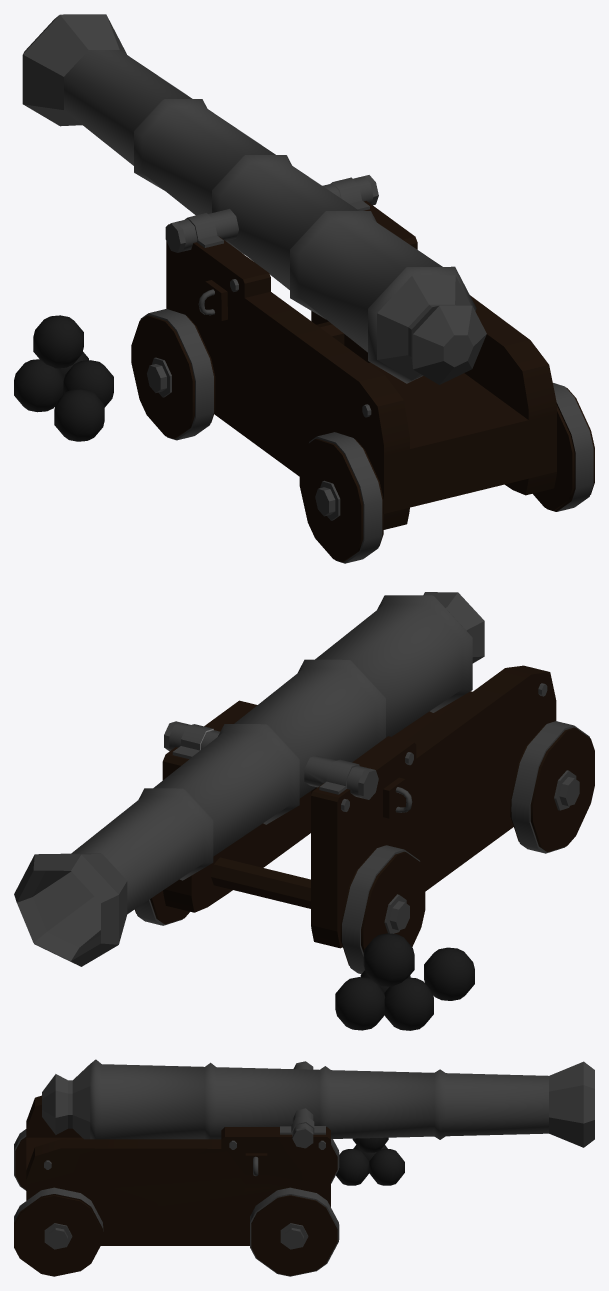
File: cannon.FBX
3 views of the same model, one above another, from view 1: azimuth 30°, elevation 25°; view 2: azimuth 150°, elevation 25°; view 3: azimuth 270°, elevation 25° (orthographic). The views are drawn at different scales.
Parts seen in each view (by area): view 1: Box001; view 2: Box001; view 3: Box001.
Part boxes in pixels (x1,y1,x2,y2): Box001: (14, 14, 594, 563); Box001: (14, 592, 594, 1030); Box001: (14, 1059, 594, 1276).
Bounding box in the file's own units: 116 × 82.75 × 251.
